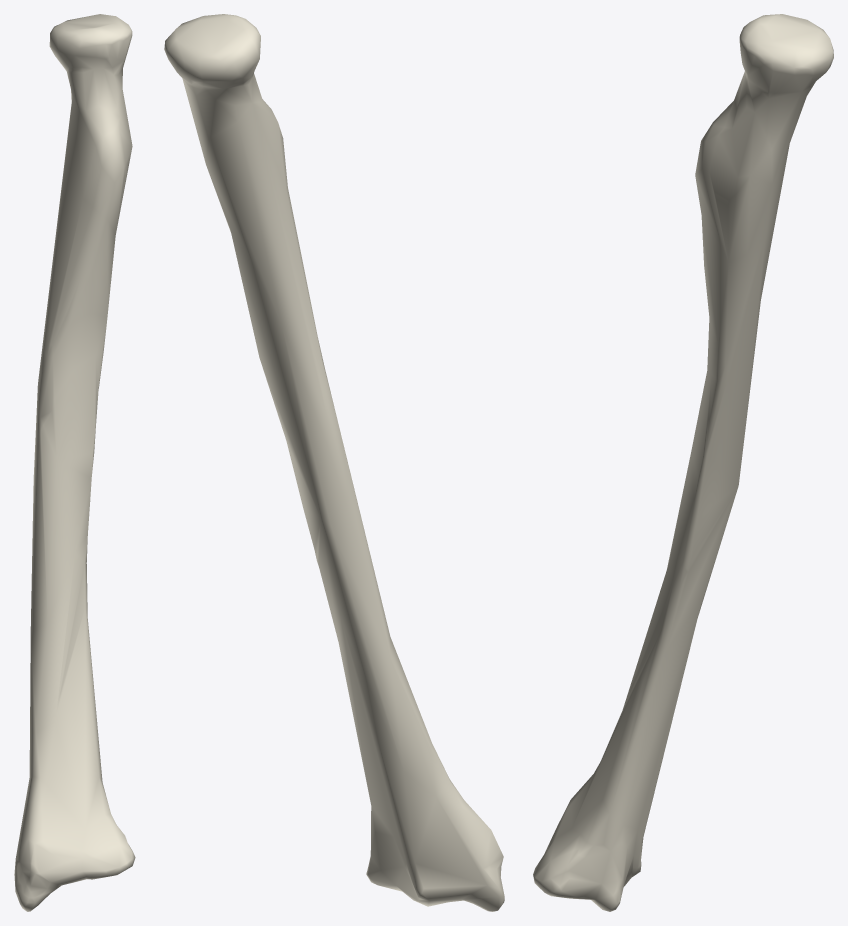
3 renders of one model, left to right at view 1: azimuth 30°, elevation 25°; view 2: azimuth 150°, elevation 25°; view 3: azimuth 270°, elevation 25°, orthographic. The views are drawn at different scales.
Visible parts, largest first — view 1: ZA_8a48faa6b2bf8117; view 2: ZA_8a48faa6b2bf8117; view 3: ZA_8a48faa6b2bf8117.
Boxes of the visible parts, <box> form: ZA_8a48faa6b2bf8117: <box>14,14,135,911</box>; ZA_8a48faa6b2bf8117: <box>164,14,504,911</box>; ZA_8a48faa6b2bf8117: <box>533,14,833,911</box>.
Size of the model in its own units: 0.0618 by 0.237 by 0.0687.
